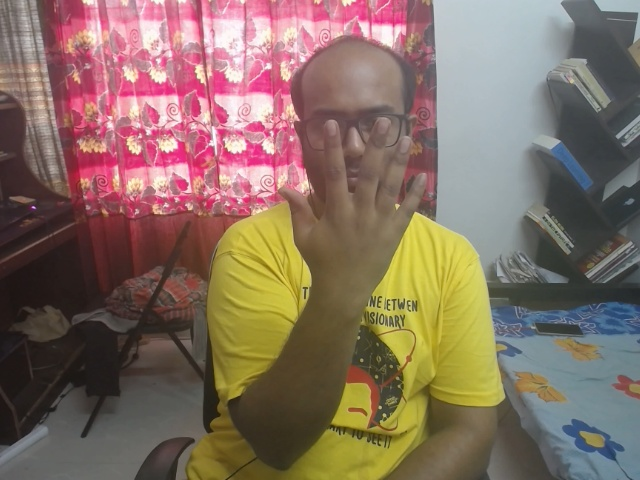five: (251, 102, 445, 296)
